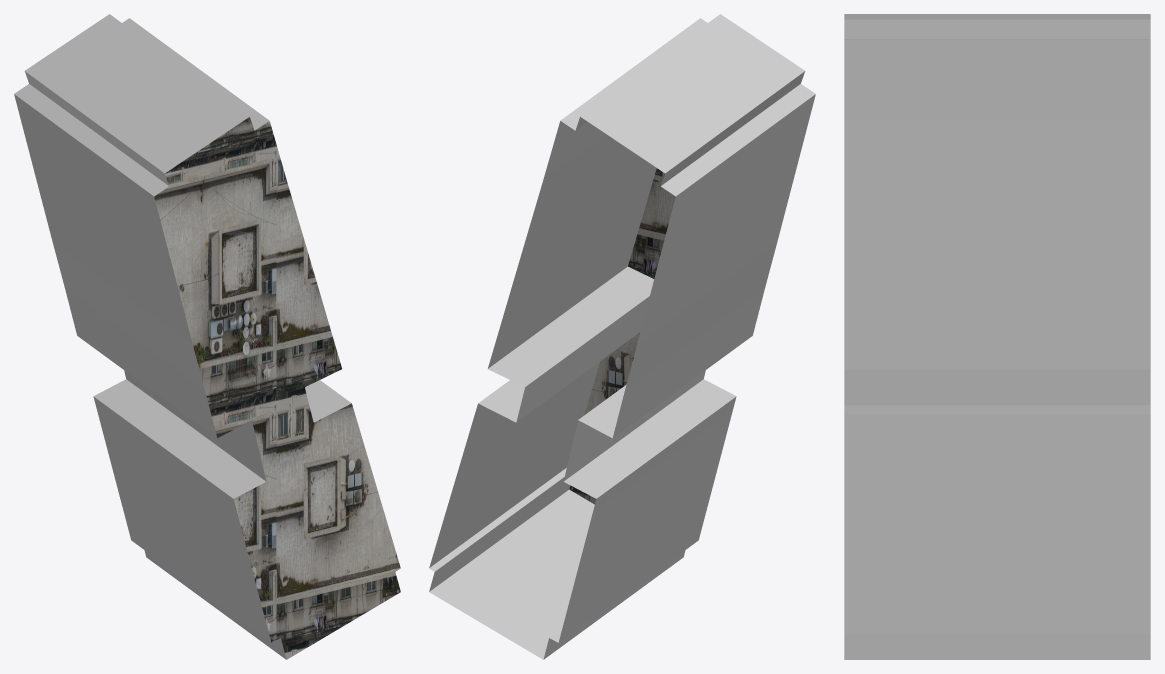
Rendered from geospecific_1723.obj.
3 renders of one model, left to right at view 1: azimuth 30°, elevation 25°; view 2: azimuth 150°, elevation 25°; view 3: azimuth 270°, elevation 25°, orthographic. The views are drawn at different scales.
Visible parts, largest first — view 1: Building; view 2: Building; view 3: Building.
Part boxes in pixels (x1,y1,x2,y2): Building: (14, 14, 400, 659); Building: (429, 14, 815, 659); Building: (844, 14, 1150, 659).
Bounding box in the file's own units: 12.19 × 26.08 × 12.
